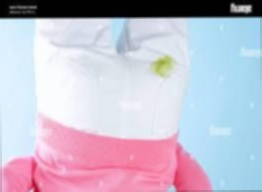earth: (150, 56, 173, 77)
